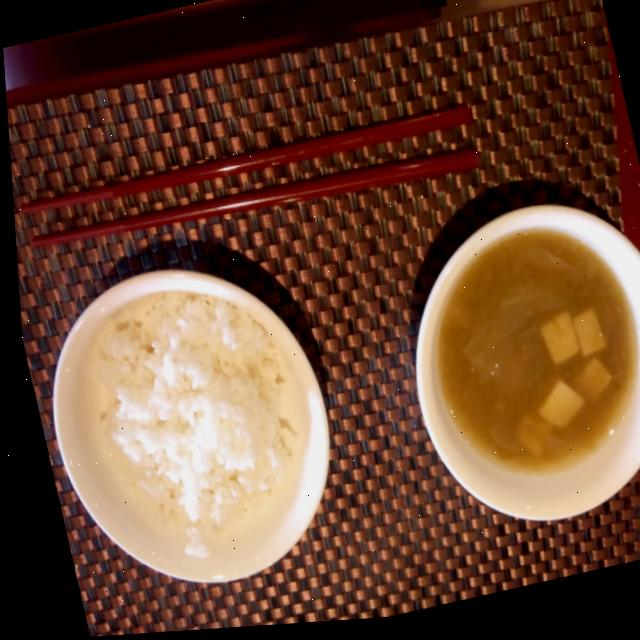米饭主食: (15, 235, 355, 616)
